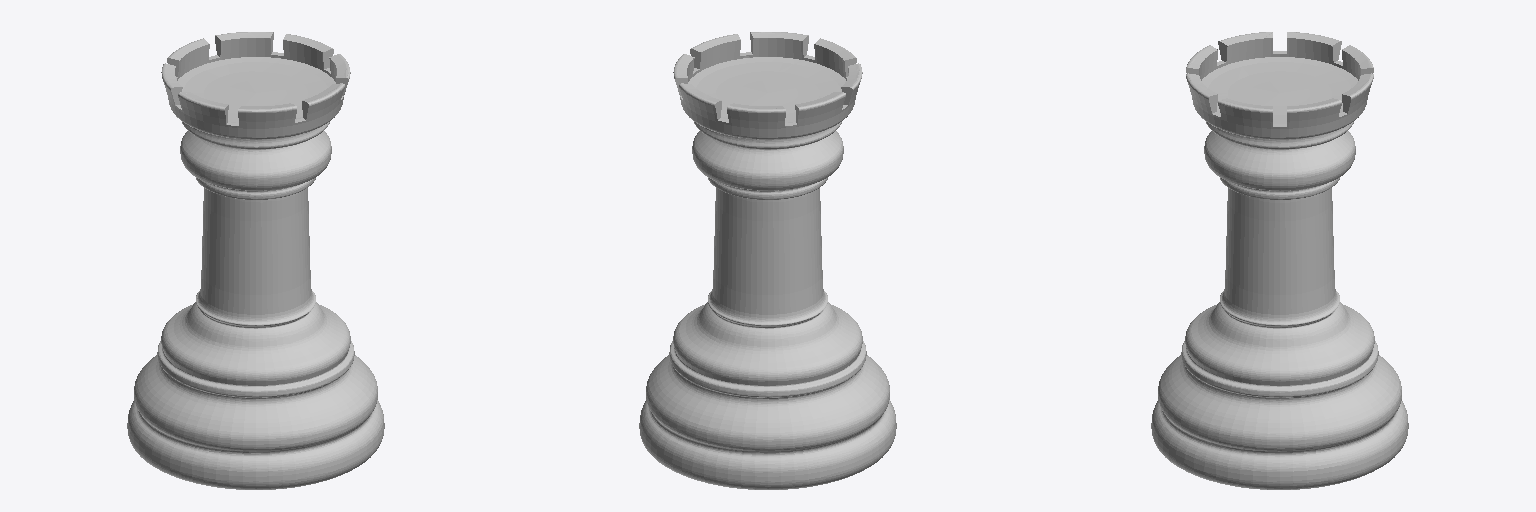
File: tower.obj
The picture shows the model from 3 angles: view 1: azimuth 30°, elevation 25°; view 2: azimuth 150°, elevation 25°; view 3: azimuth 270°, elevation 25°; orthographic projection.
Visible parts, largest first — view 1: Chess_White_Rooks1_Rook_21; view 2: Chess_White_Rooks1_Rook_21; view 3: Chess_White_Rooks1_Rook_21.
Part boxes in pixels (left/top/right/bottom): Chess_White_Rooks1_Rook_21: left=127, top=32, right=384, bottom=489; Chess_White_Rooks1_Rook_21: left=639, top=32, right=896, bottom=489; Chess_White_Rooks1_Rook_21: left=1151, top=32, right=1408, bottom=489.
Bounding box in the file's own units: 0.7597 × 1.21 × 0.7597.